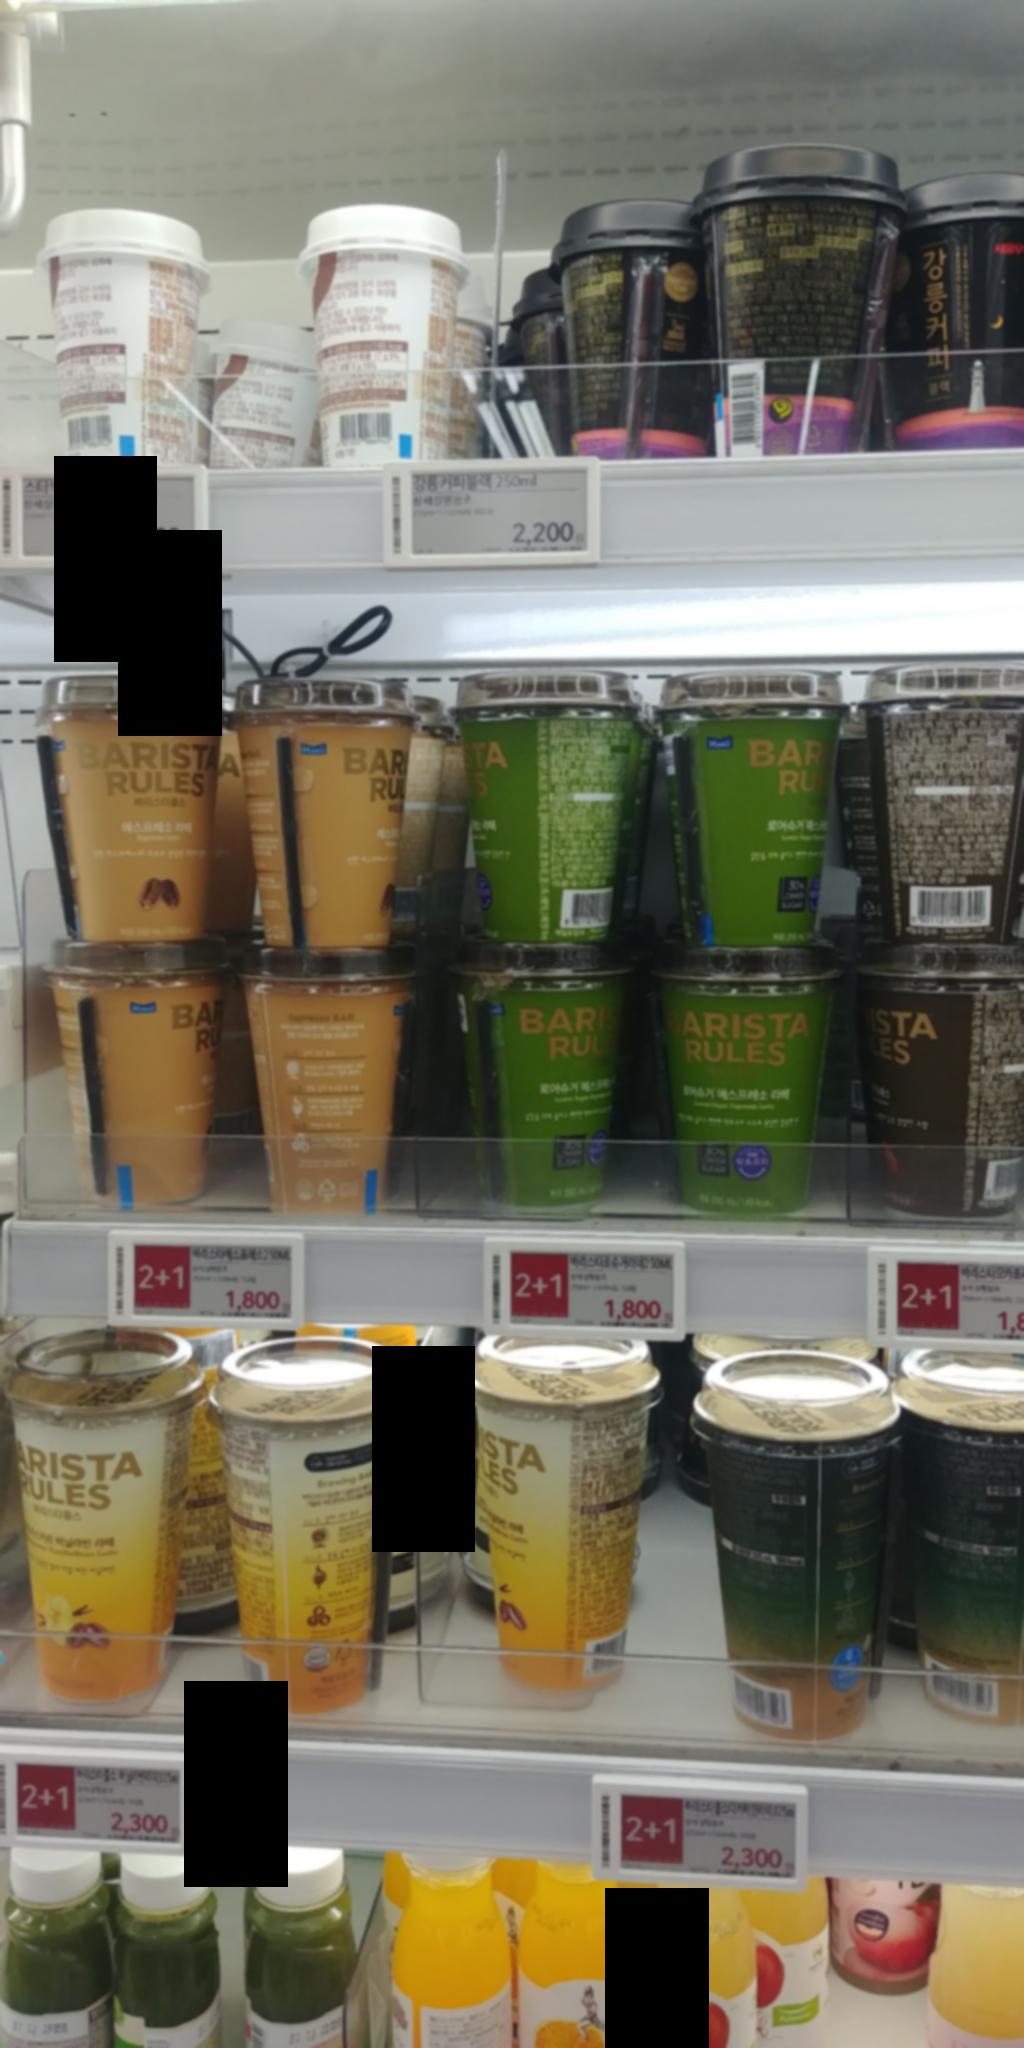baristarules_espressolatte: (232, 944, 408, 1217), (44, 940, 223, 1206), (244, 671, 414, 950), (52, 677, 231, 935)
